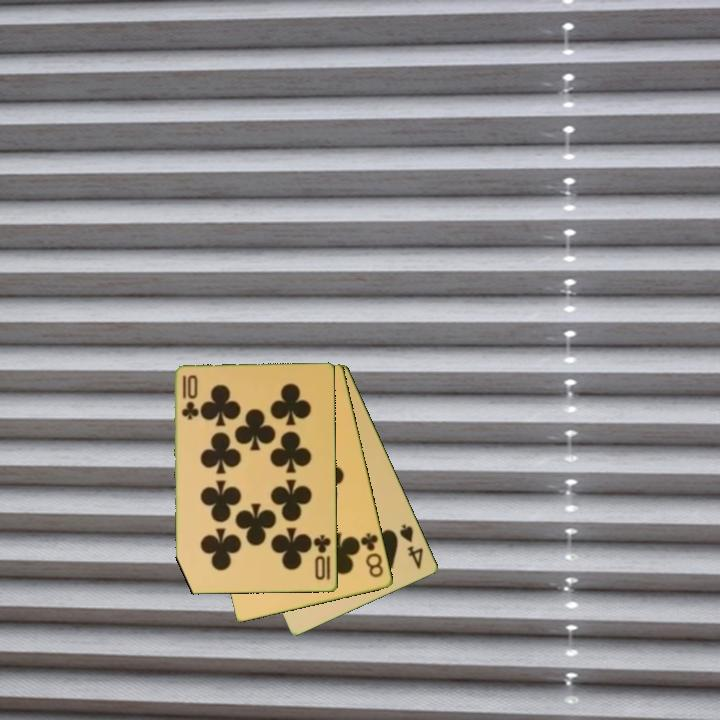10c: (311, 531, 334, 583), (178, 372, 200, 423)
4s: (396, 521, 426, 572)
8c: (357, 529, 387, 581)
